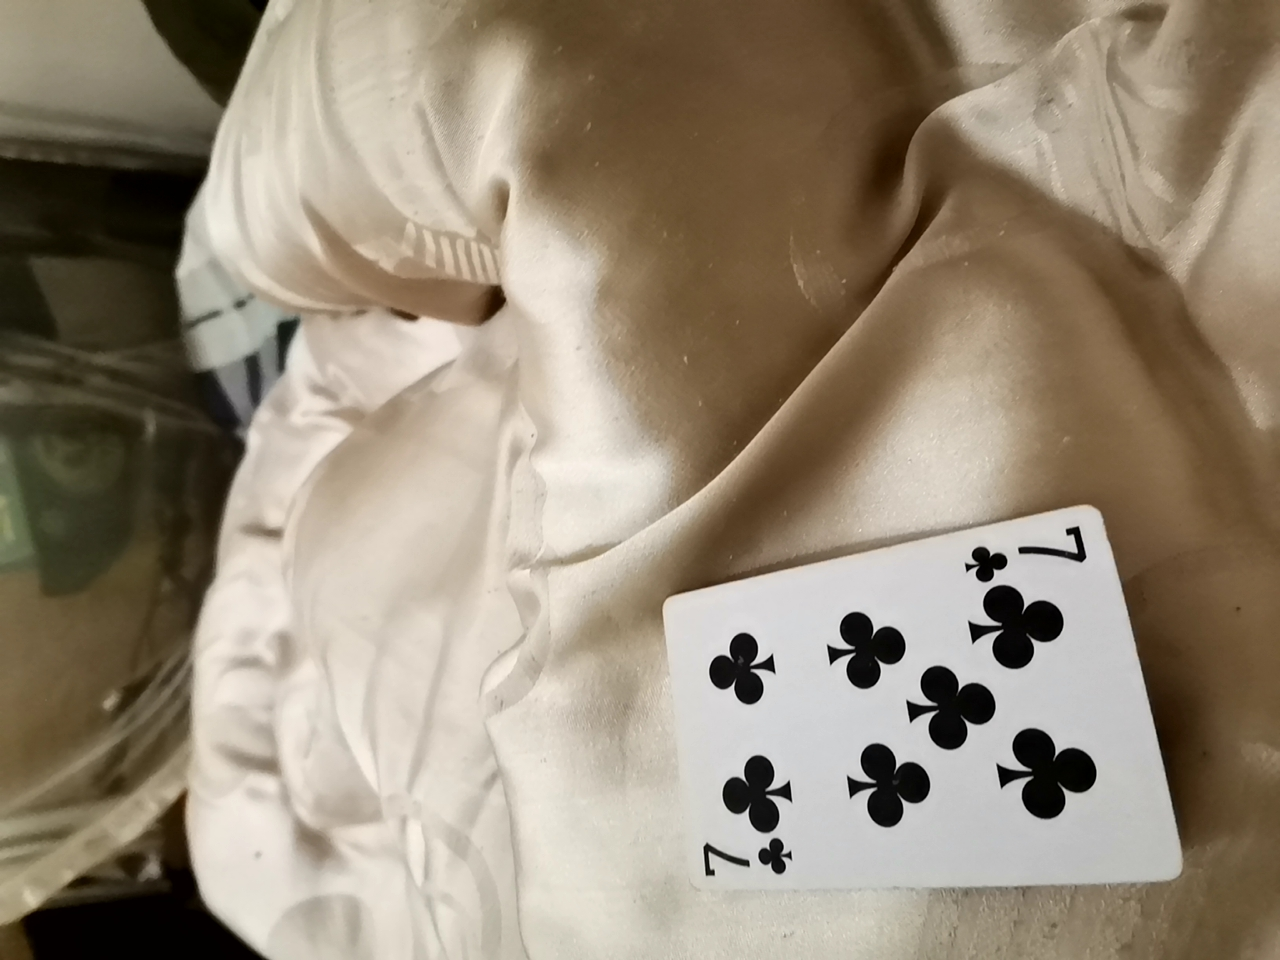mh 7: (653, 518, 1193, 902)
